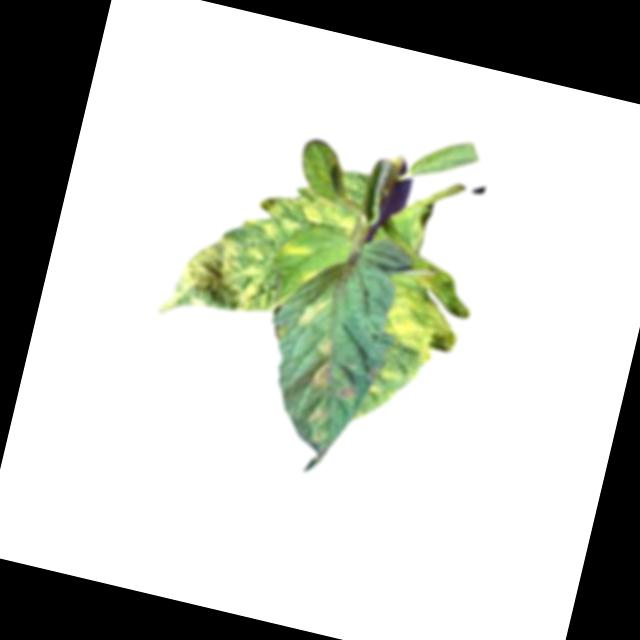Leaf_Mold: (155, 196, 291, 340), (370, 261, 479, 376), (262, 184, 364, 237), (291, 287, 334, 335), (308, 355, 336, 389), (280, 238, 318, 261), (314, 334, 335, 358)
